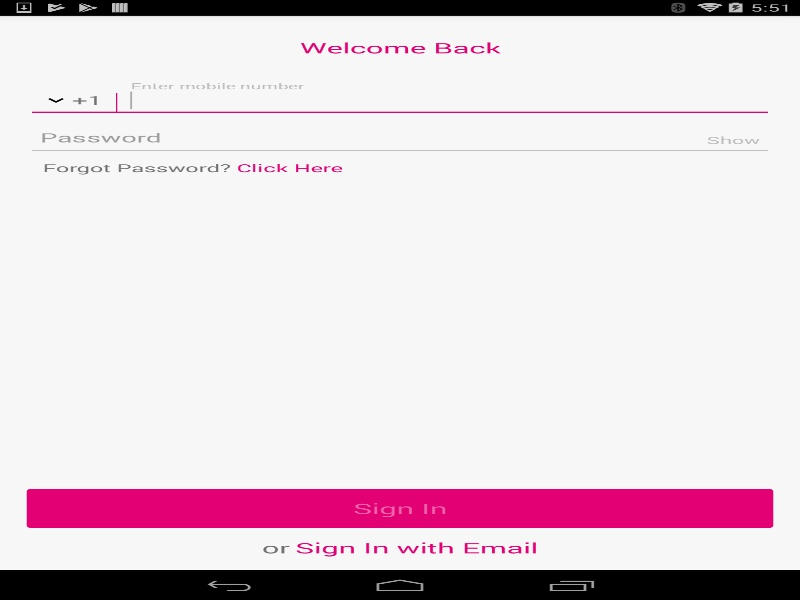Button: (26, 488, 773, 528)
Input: (34, 126, 696, 149), (125, 89, 765, 111)
